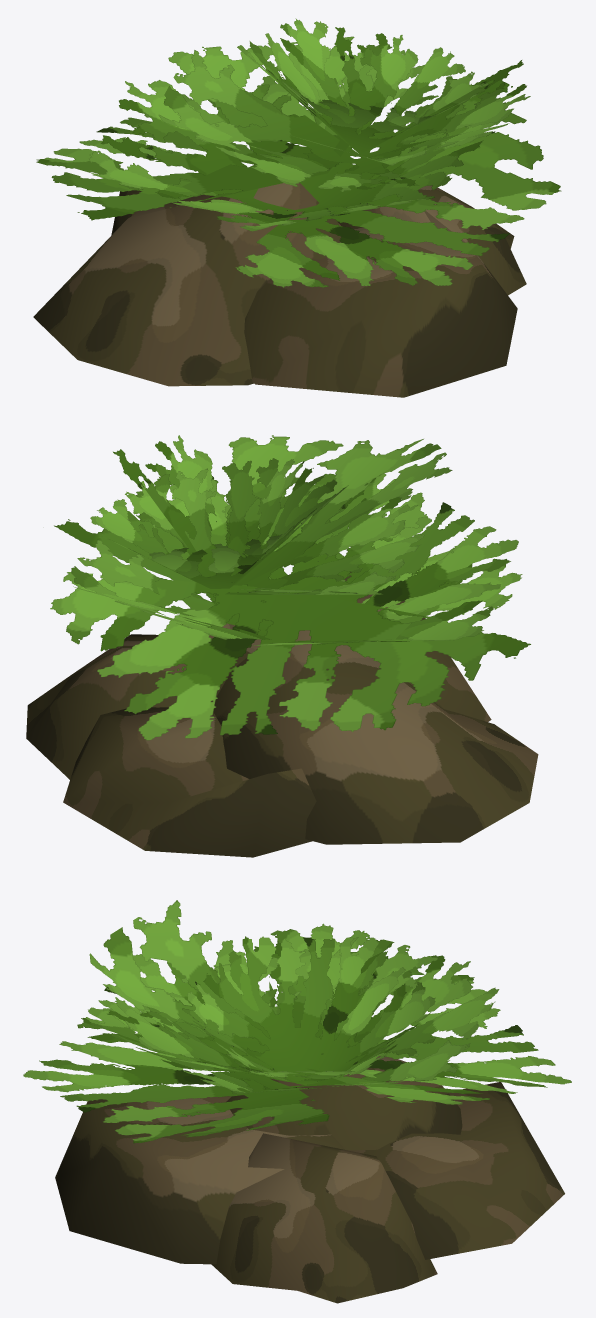
The model's file is Elkhorn Cora 2_preview_3DS_simplified.glb.
3 renders of one model, top to bottom at view 1: azimuth 30°, elevation 25°; view 2: azimuth 150°, elevation 25°; view 3: azimuth 270°, elevation 25°, orthographic. The views are drawn at different scales.
Parts seen in each view (by area): view 1: Marine Park Empire model; view 2: Marine Park Empire model; view 3: Marine Park Empire model.
Boxes of the visible parts, <box> form: Marine Park Empire model: <box>33,18,561,397</box>; Marine Park Empire model: <box>26,435,538,857</box>; Marine Park Empire model: <box>23,900,571,1303</box>.
Bounding box in the file's own units: 70.17 × 39.49 × 75.01.
Materials: 2 (2 with a texture image).
